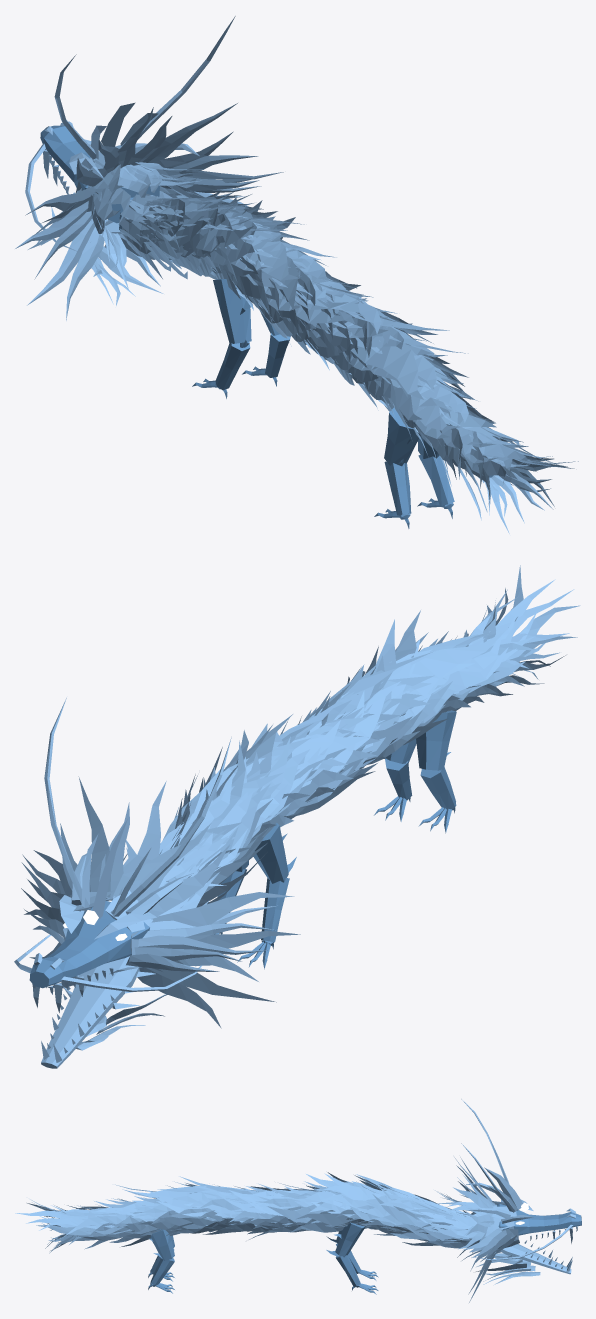
Rendered from Dragon_Cristal_v3.glb.
3 views of the same model, one above another, from view 1: azimuth 30°, elevation 25°; view 2: azimuth 150°, elevation 25°; view 3: azimuth 270°, elevation 25° (orthographic). The views are drawn at different scales.
Parts seen in each view (by area): view 1: Head_Blades, Seg30_Blades, Seg21_Blades, Seg16_Blades, Seg11_Blades, Head, Seg18_Blades, Seg09_Blades, Seg10_LegFL, Seg10_Blades, Seg25_Blades, Head_Jaw (+27 smaller); view 2: Head_Blades, Head_Jaw, Head, Seg05_Blades, Seg21_Blades, Seg16_Blades, Seg03_Blades, Seg18_Blades, Seg04_Blades, Seg30_Blades, Seg09_Blades, Seg11_Blades (+22 smaller); view 3: Head_Blades, Head_Jaw, Seg10_Blades, Seg03_Blades, Head, Seg14_Blades, Seg20_Blades, Seg04_Blades, Seg16_Blades, Seg18_Blades, Seg21_Blades, Seg02_Blades (+25 smaller).
Boxes of the visible parts, x1=… form: Head_Blades: x1=15, y1=16, x2=283, y2=320; Seg30_Blades: x1=464, y1=452, x2=578, y2=533; Seg21_Blades: x1=346, y1=343, x2=464, y2=410; Seg16_Blades: x1=288, y1=283, x2=397, y2=345; Seg11_Blades: x1=232, y1=231, x2=321, y2=322; Head: x1=40, y1=125, x2=159, y2=223; Seg18_Blades: x1=309, y1=297, x2=449, y2=363; Seg09_Blades: x1=207, y1=216, x2=309, y2=299; Seg10_LegFL: x1=213, y1=279, x2=251, y2=343; Seg10_Blades: x1=221, y1=226, x2=336, y2=299; Seg25_Blades: x1=399, y1=375, x2=493, y2=454; Head_Jaw: x1=51, y1=207, x2=163, y2=305; Head_Blades: x1=14, y1=697, x2=300, y2=1028; Head_Jaw: x1=41, y1=956, x2=167, y2=1068; Head: x1=29, y1=901, x2=149, y2=988; Seg05_Blades: x1=162, y1=740, x2=270, y2=884; Seg21_Blades: x1=395, y1=631, x2=505, y2=745; Seg16_Blades: x1=309, y1=651, x2=433, y2=773; Seg03_Blades: x1=159, y1=775, x2=267, y2=903; Seg18_Blades: x1=329, y1=619, x2=434, y2=768; Seg04_Blades: x1=160, y1=769, x2=251, y2=884; Seg30_Blades: x1=494, y1=565, x2=580, y2=679; Seg09_Blades: x1=246, y1=714, x2=309, y2=830; Seg11_Blades: x1=273, y1=720, x2=353, y2=818; Head_Blades: x1=435, y1=1099, x2=577, y2=1302; Head_Jaw: x1=476, y1=1240, x2=572, y2=1284; Seg10_Blades: x1=292, y1=1181, x2=364, y2=1227; Seg03_Blades: x1=372, y1=1184, x2=456, y2=1239; Head: x1=497, y1=1204, x2=581, y2=1235; Seg14_Blades: x1=237, y1=1186, x2=305, y2=1239; Seg20_Blades: x1=133, y1=1185, x2=228, y2=1233; Seg04_Blades: x1=374, y1=1182, x2=446, y2=1241; Seg16_Blades: x1=179, y1=1176, x2=278, y2=1234; Seg18_Blades: x1=157, y1=1183, x2=252, y2=1234; Seg21_Blades: x1=115, y1=1184, x2=214, y2=1232; Seg02_Blades: x1=391, y1=1199, x2=469, y2=1245.
Bounding box in the file's own units: 26.72 × 27.31 × 85.17.
